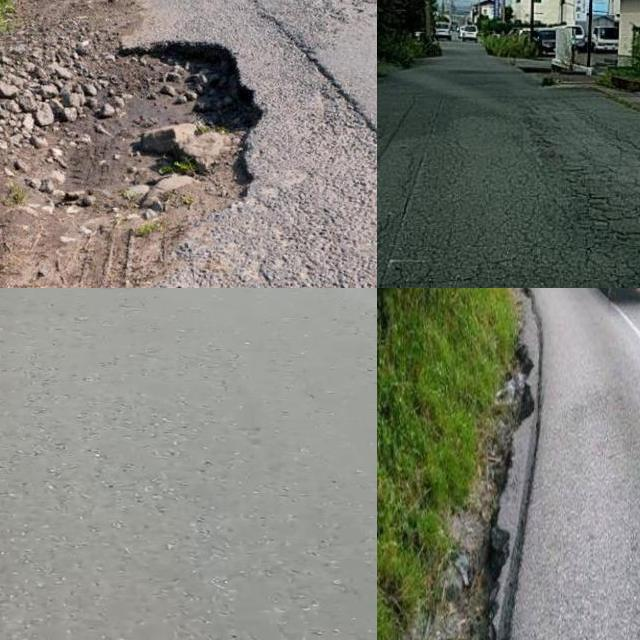Pinggir: (32, 21, 298, 288), (427, 288, 555, 640)
Retak Buaya: (382, 141, 640, 288)
